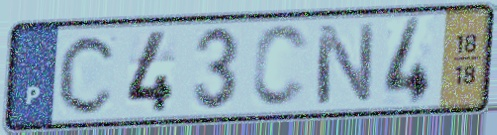3: (190, 24, 243, 114)
4: (380, 14, 435, 109), (124, 28, 176, 116)
C: (248, 22, 313, 112), (55, 31, 121, 118)
N: (313, 20, 378, 108)
